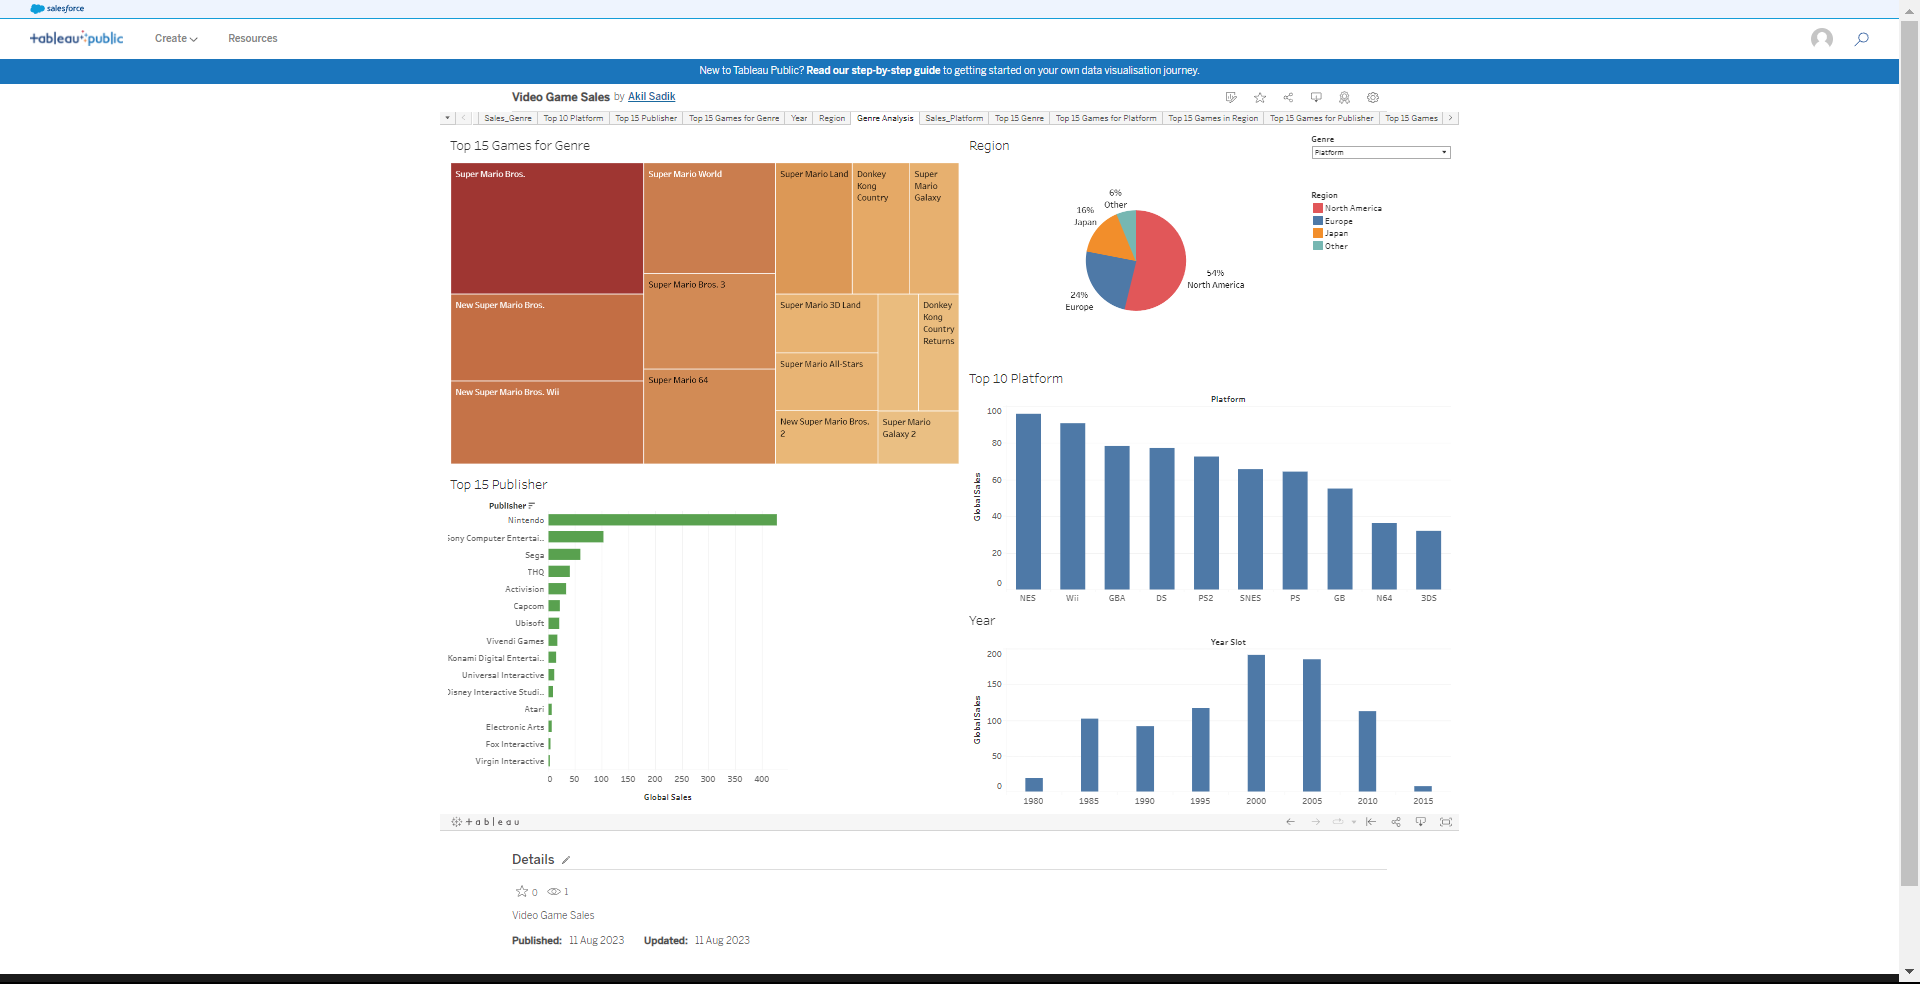

This screenshot's page, from the dashboard's own definition file:
{"tool":"tableau","page":{"name":"Genre Analysis","canvas":[1630,1100],"ordinal":0},"visuals":[{"type":"worksheet","title":"Top 15 Games for Genre","mark":"Automatic","box":[8,8,830.1,542]},{"type":"worksheet","title":"Region","mark":"Pie","box":[838.1,8,552,372.3]},{"type":"filter","title":"Top 15 Publisher","param":"[federated.0a69zph172241k1cld04u0z81ynf].[none:Genre:nk]","box":[1390.1,8,231.9,89.2]},{"type":"legend","title":"Region","param":"[federated.18quslc1wu2l3e1drtww60ejdhqj].[none:Region:nk]","box":[1390.1,97.2,231.9,283.1]},{"type":"worksheet","title":"Top 10 Platform","mark":"Automatic","rows":["Global_Sales"],"cols":["Platform"],"box":[838.1,380.3,783.9,387.3]},{"type":"worksheet","title":"Top 15 Publisher","mark":"Automatic","rows":["Publisher"],"cols":["Global_Sales"],"box":[8,550,830.1,542]},{"type":"worksheet","title":"Year","mark":"Automatic","rows":["Global_Sales"],"cols":["Year (bin)"],"box":[838.1,767.6,783.9,324.4]}]}

Visuals, with their boxes on the page's 1630x1100 design canvas (x1, y1, x2, y2). These are canvas units, not pixel positions in the 1920x984 screenshot, which may show the page scaled, cropped or inside an application window:
"Top 15 Games for Genre" worksheet: BBox(8, 8, 838, 550)
"Region" worksheet (Pie marks): BBox(838, 8, 1390, 380)
"Top 15 Publisher" filter: BBox(1390, 8, 1622, 97)
"Region" legend: BBox(1390, 97, 1622, 380)
"Top 10 Platform" worksheet: BBox(838, 380, 1622, 768)
"Top 15 Publisher" worksheet: BBox(8, 550, 838, 1092)
"Year" worksheet: BBox(838, 768, 1622, 1092)
